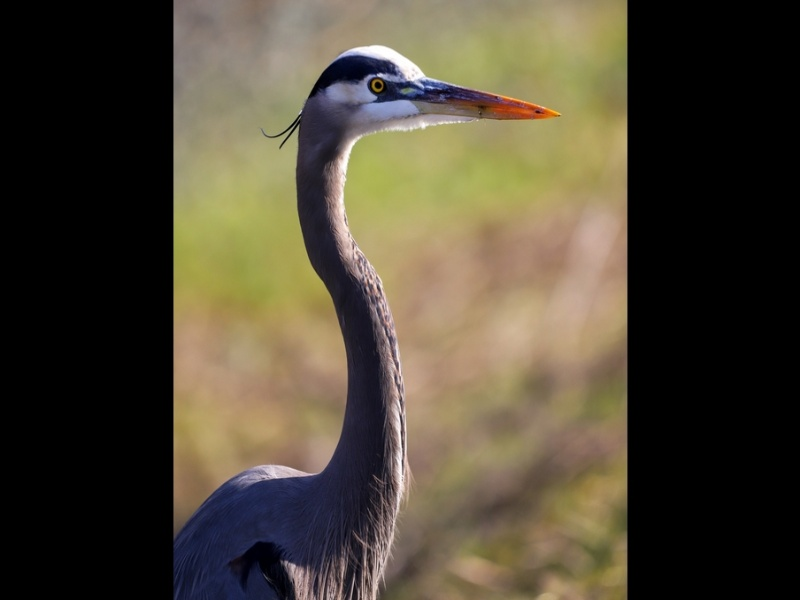heron: (181, 43, 563, 597)
